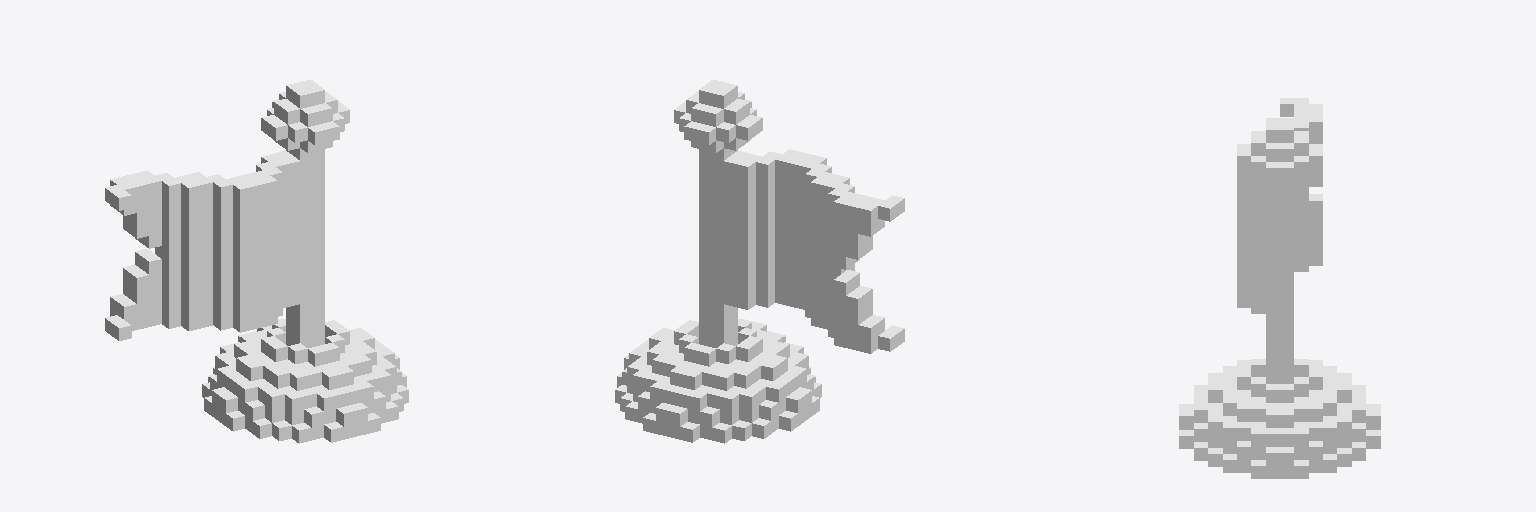
File: goalFlag.obj
3 views of the same model, side by side, from view 1: azimuth 30°, elevation 25°; view 2: azimuth 150°, elevation 25°; view 3: azimuth 270°, elevation 25° (orthographic).
Visible parts, largest first — view 1: goalFlag; view 2: goalFlag; view 3: goalFlag.
Boxes of the visible parts, <box> form: goalFlag: <box>105,80,408,443</box>; goalFlag: <box>615,80,904,443</box>; goalFlag: <box>1179,98,1380,478</box>.
Size of the model in its own units: 2.2 by 2.4 by 1.4.